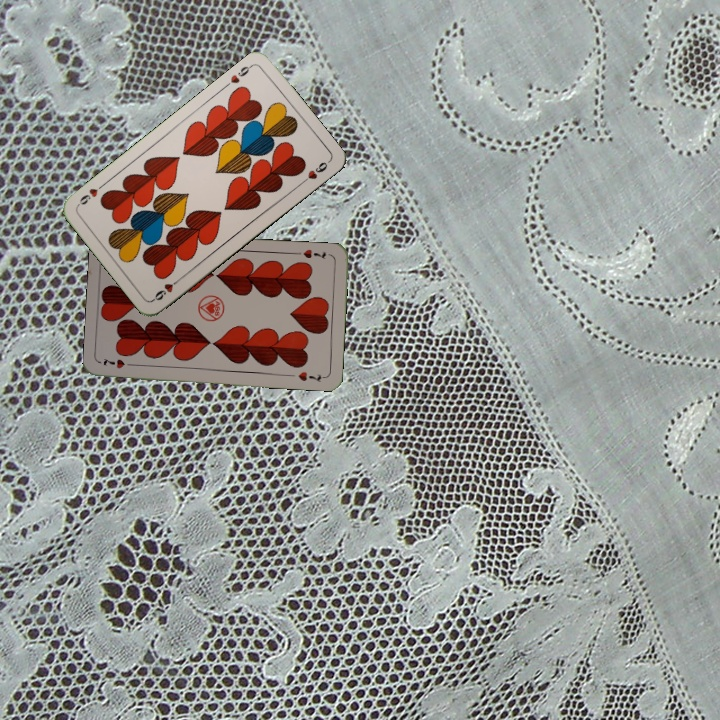H7: (99, 355, 138, 371), (299, 245, 328, 261)
H9: (149, 274, 184, 303), (226, 61, 255, 86)
